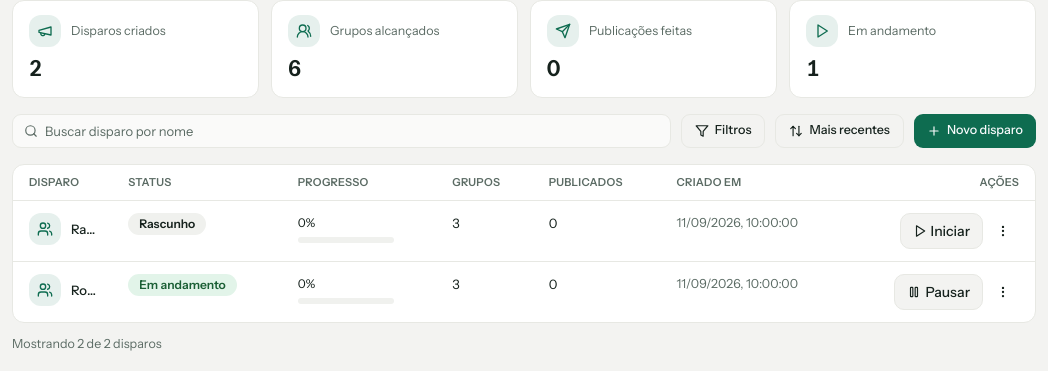
it: GroupBroadcastsPanel — anatomia compartilhada › filtro por status esconde quem não bate
expect the text "Rodando" is shown: met, box [71,280,96,300]
Click the button "Filtros" at [723, 130], box [681,114,765,148]
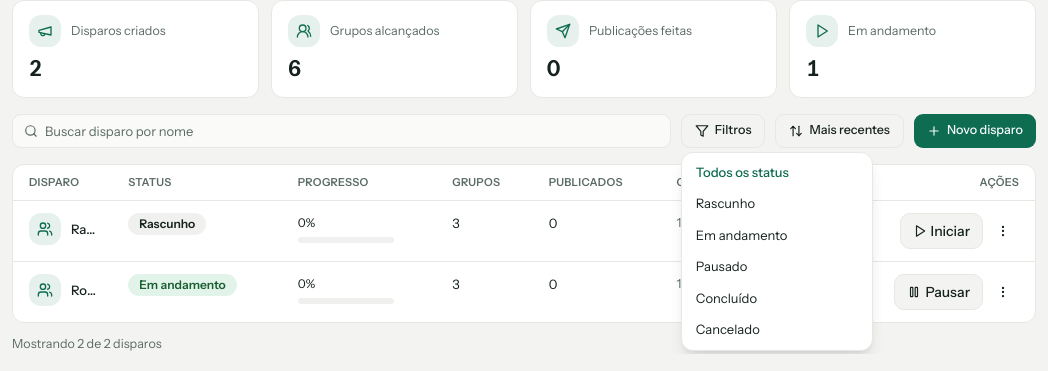
Click the menu item "Em andamento" at [777, 235], box [686,220,868,251]
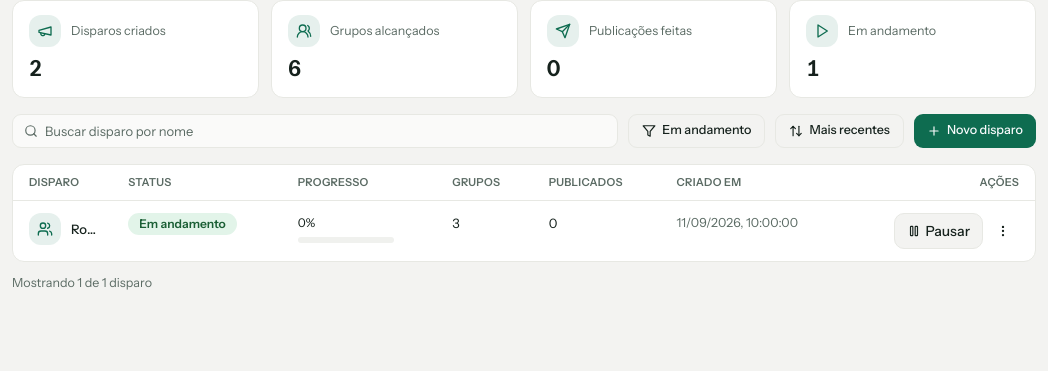
expect the text "Rodando" is shown: met, box [71,219,96,239]
expect the text "Rascunho um" is gone: met
